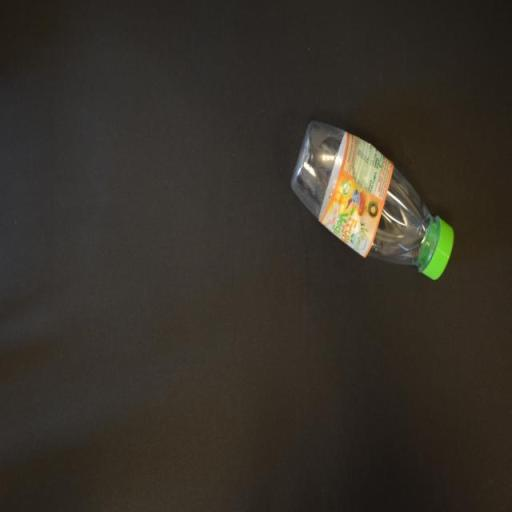plastic: (290, 118, 458, 280)
